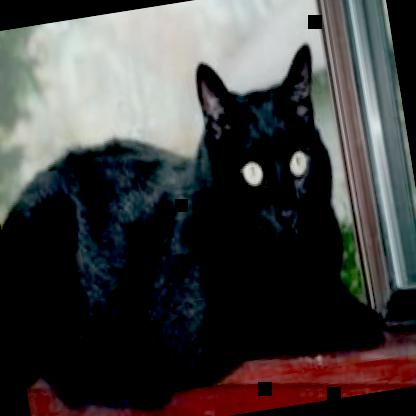cat: (0, 35, 392, 415)
